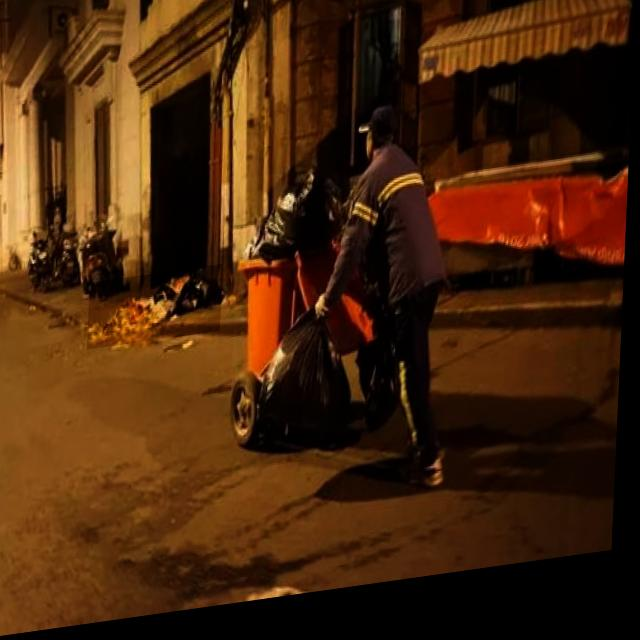garbage: (90, 271, 226, 353)
overflow: (234, 176, 340, 435)
